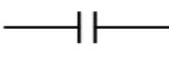Capacitor: (63, 3, 110, 46)
